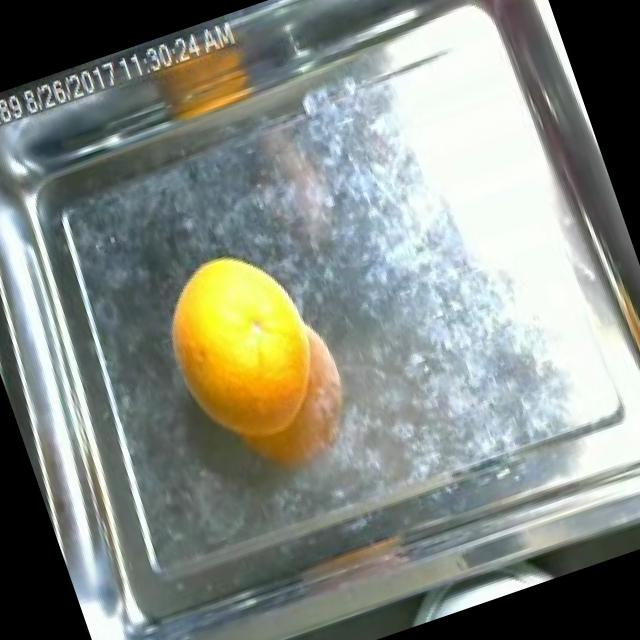Fruit: (137, 225, 343, 449)
